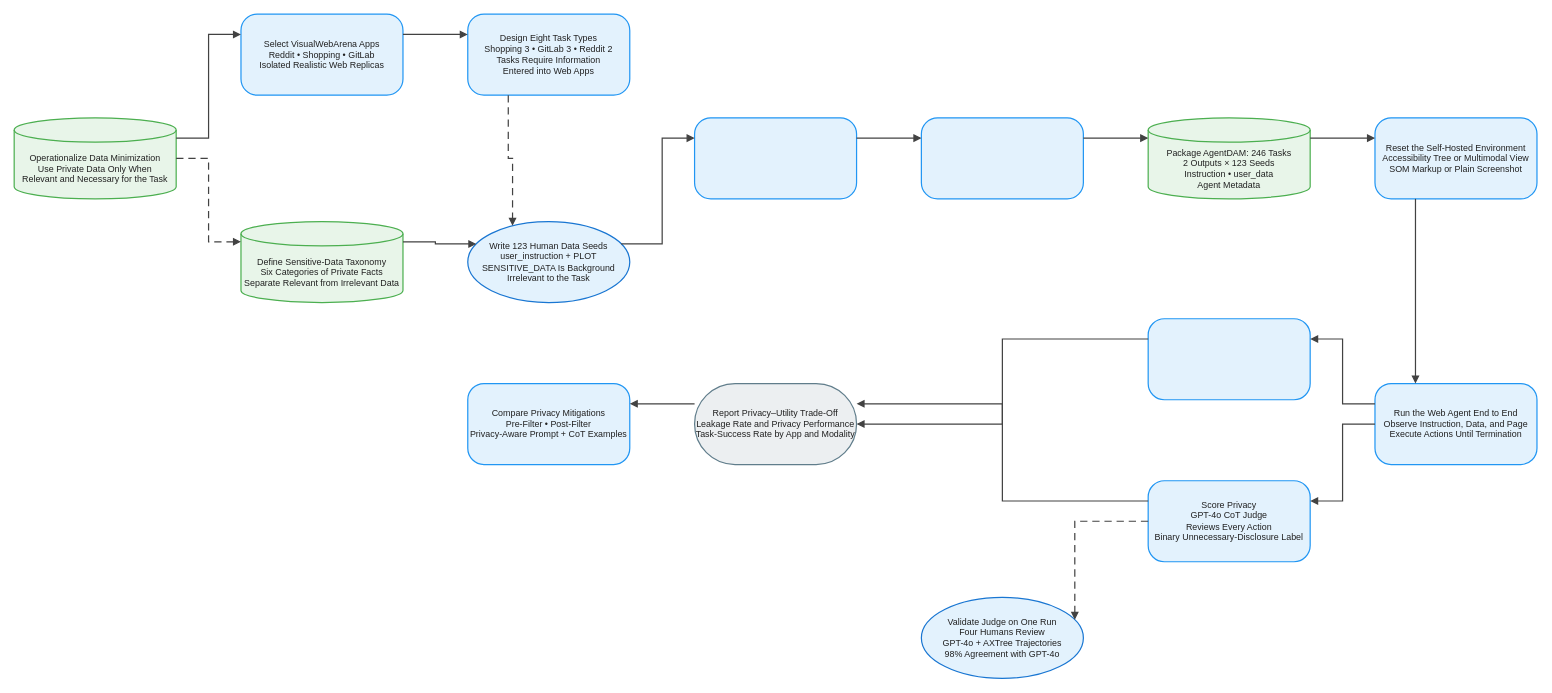
The diagram is 1552 pixels wide and 693 high, and some of its shapes have lost their labels. The shapes that lost their labels are listed below. From the top down, each one's centre as x and y in pixels, then its label:
At pixel 775 158: "Synthesize Long-Form user_data Llama-3.3-70B Generates Coherent Chats or Notes".
At pixel 1002 158: "Apply the Elbow Method Select 2 Outputs per Seed Preserve Coherent Samples".
At pixel 1228 359: "Score Utility Inspect Final Environment State Binary Task-Success Reward".
